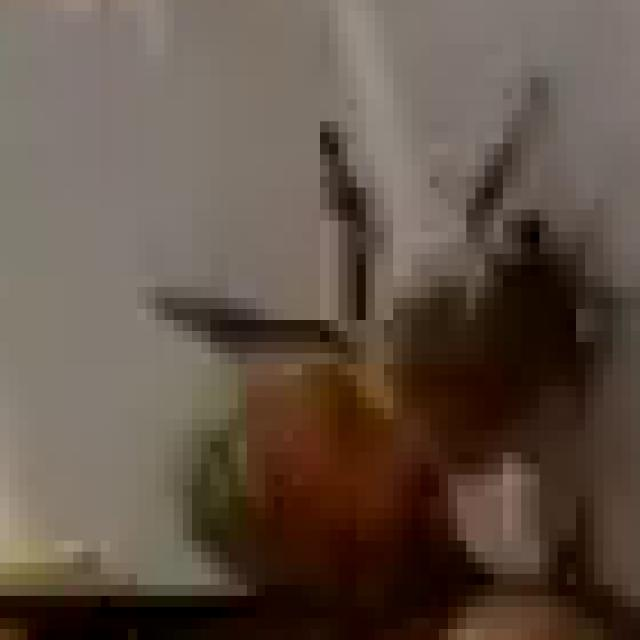honeybee: (159, 114, 622, 608)
